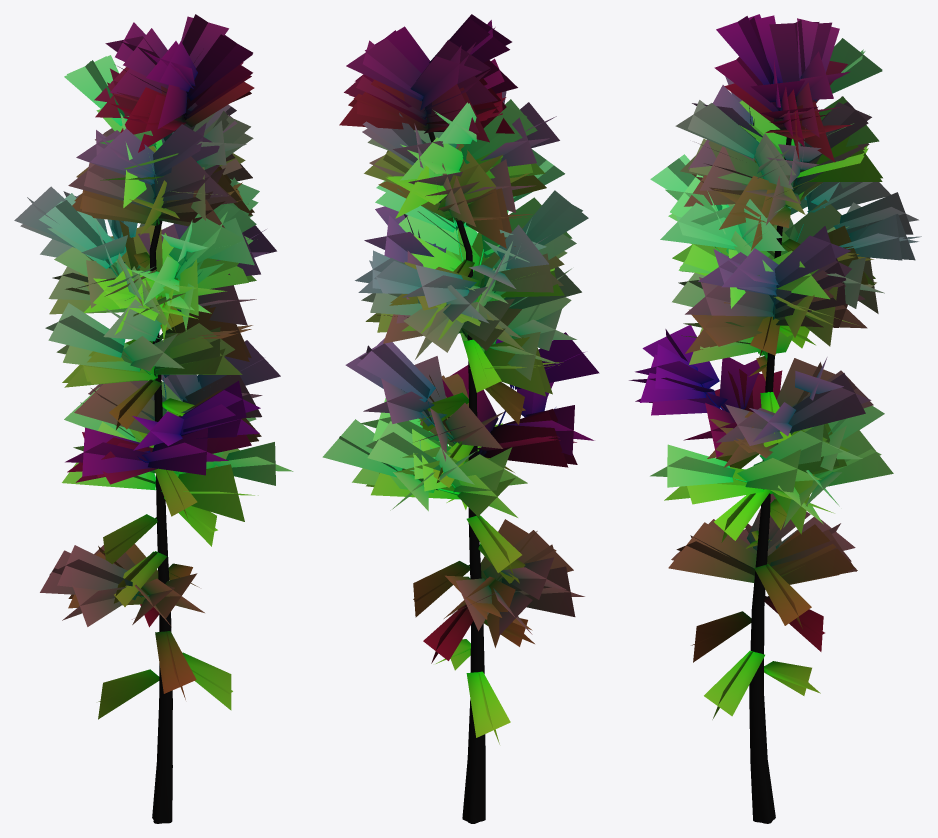
Rendered from M_Realistic21_2.fbx.
3 renders of one model, left to right at view 1: azimuth 30°, elevation 25°; view 2: azimuth 150°, elevation 25°; view 3: azimuth 270°, elevation 25°, orthographic. The views are drawn at different scales.
Parts seen in each view (by area): view 1: Tree_2; view 2: Tree_2; view 3: Tree_2.
Part boxes in pixels (x1,y1,x2,y2): Tree_2: (14, 14, 293, 823); Tree_2: (322, 14, 599, 823); Tree_2: (629, 14, 921, 823).
Size of the model in its own units: 1011 by 3339 by 1105.
